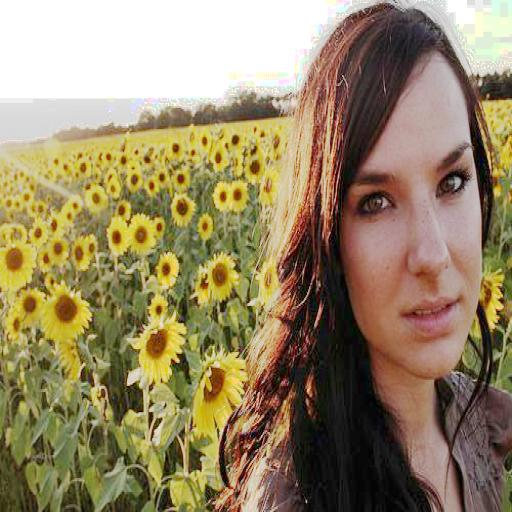sunflower: (196, 347, 246, 440), (131, 318, 184, 383), (43, 283, 90, 346), (209, 254, 241, 300), (128, 214, 154, 255), (15, 288, 43, 322), (105, 217, 129, 255), (156, 254, 178, 289), (47, 235, 70, 268), (86, 184, 109, 216), (171, 194, 194, 226), (4, 309, 23, 343), (261, 262, 277, 302), (166, 134, 187, 161), (213, 183, 233, 211), (71, 236, 88, 268), (228, 180, 248, 207), (29, 218, 45, 248), (147, 297, 167, 321), (47, 209, 61, 237), (198, 129, 212, 155)
